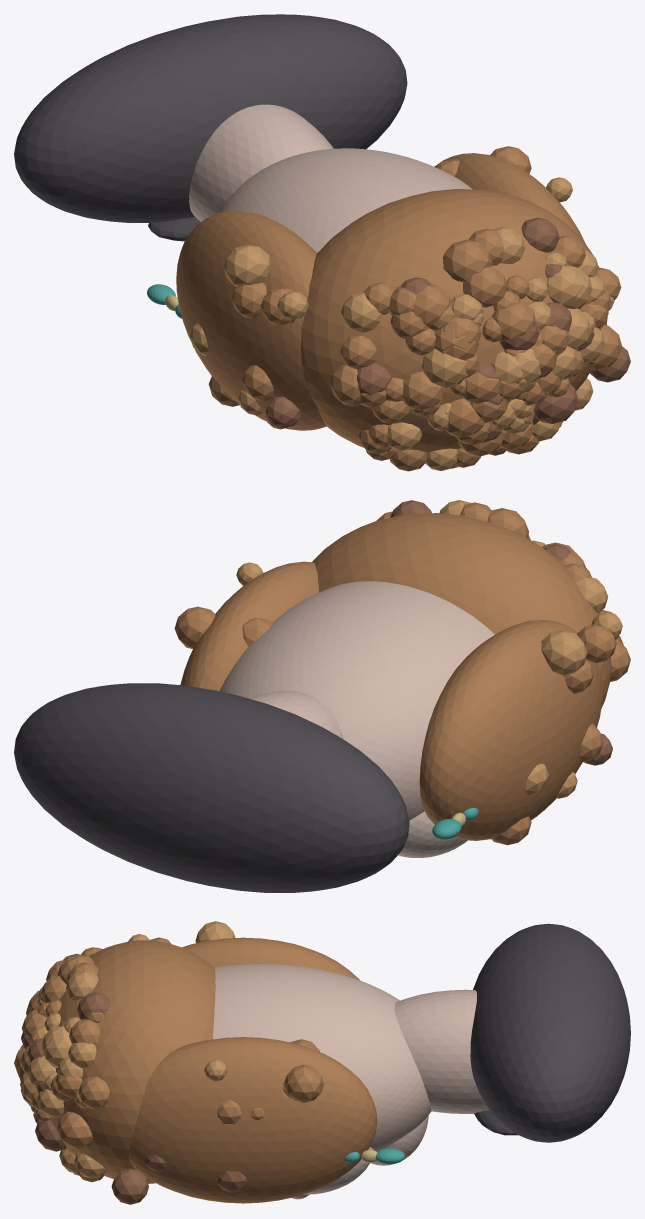
Rendered from bernadette_peters_stylized.glb.
3 renders of one model, top to bottom at view 1: azimuth 30°, elevation 25°; view 2: azimuth 150°, elevation 25°; view 3: azimuth 270°, elevation 25°, orthographic. The views are drawn at different scales.
Parts seen in each view (by area): view 1: shoulders_and_upper_torso, hair_cap, left_side_hair, head_base, neck, right_side_hair, curl_020, curl_056, curl_101, curl_178, curl_052, curl_205 (+30 smaller); view 2: shoulders_and_upper_torso, head_base, left_side_hair, hair_cap, right_side_hair, neck, curl_020, left_cheek, curl_188, curl_161, curl_056, curl_205 (+5 smaller); view 3: right_side_hair, shoulders_and_upper_torso, head_base, hair_cap, neck, left_side_hair, curl_188, curl_057, curl_034, curl_181, chin, curl_170 (+16 smaller).
Boxes of the visible parts, left/top/right/bottom form: shoulders_and_upper_torso: left=14, top=14, right=407, bottom=222; hair_cap: left=300, top=189, right=607, bottom=452; left_side_hair: left=176, top=210, right=326, bottom=430; head_base: left=220, top=148, right=471, bottom=252; neck: left=189, top=104, right=333, bottom=221; right_side_hair: left=434, top=153, right=585, bottom=243; curl_020: left=223, top=244, right=270, bottom=286; curl_056: left=443, top=239, right=492, bottom=282; curl_101: left=422, top=348, right=467, bottom=387; curl_178: left=463, top=266, right=507, bottom=307; curl_052: left=402, top=371, right=444, bottom=410; curl_205: left=341, top=292, right=382, bottom=332; shoulders_and_upper_torso: left=14, top=683, right=409, bottom=892; head_base: left=220, top=581, right=494, bottom=820; left_side_hair: left=419, top=620, right=602, bottom=840; hair_cap: left=312, top=513, right=611, bottom=708; right_side_hair: left=180, top=561, right=319, bottom=691; neck: left=249, top=690, right=343, bottom=739; curl_020: left=541, top=630, right=587, bottom=675; left_cheek: left=398, top=811, right=467, bottom=857; curl_188: left=174, top=606, right=215, bottom=648; curl_161: left=577, top=624, right=616, bottom=662; curl_056: left=487, top=508, right=528, bottom=537; curl_205: left=576, top=577, right=608, bottom=612; right_side_hair: left=128, top=1037, right=377, bottom=1203; shoulders_and_upper_torso: left=470, top=923, right=630, bottom=1142; head_base: left=213, top=964, right=431, bottom=1151; hair_cap: left=49, top=940, right=215, bottom=1183; neck: left=394, top=989, right=489, bottom=1113; left_side_hair: left=182, top=937, right=359, bottom=980; curl_188: left=284, top=1064, right=323, bottom=1102; curl_057: left=111, top=1168, right=148, bottom=1204; curl_034: left=57, top=1111, right=92, bottom=1149; curl_181: left=78, top=1076, right=109, bottom=1109; chin: left=370, top=1115, right=428, bottom=1165; curl_170: left=66, top=971, right=98, bottom=1000.
Size of the model in its own units: 1.84 by 1.28 by 2.99.
